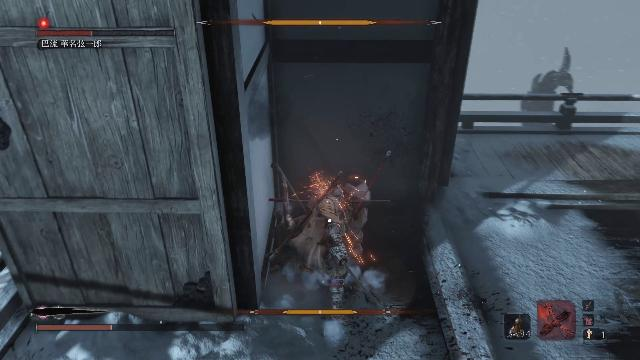sk: (281, 181, 349, 326)
